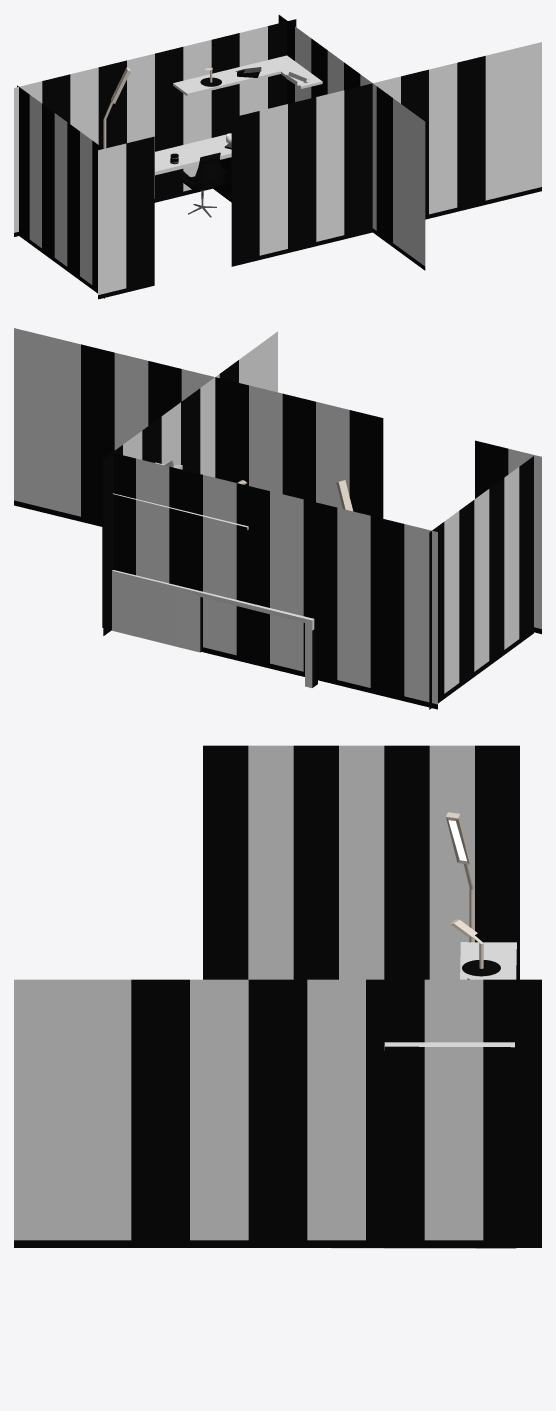
File: blackWhiteOffice.glb
3 views of the same model, one above another, from view 1: azimuth 30°, elevation 25°; view 2: azimuth 150°, elevation 25°; view 3: azimuth 270°, elevation 25° (orthographic). The views are drawn at different scales.
Visible parts, largest first — view 1: BuildingBase.012, BuildingBase.006, BuildingBase.003, BuildingBase.011, BuildingBase.004, desk, chair, LightsOffice, binders; view 2: BuildingBase.006, BuildingBase.012, BuildingBase.003, BuildingBase.011, desk, BuildingBase.004; view 3: BuildingBase.011, BuildingBase.003, desk, LightsOffice, LightsOffice.001.
Boxes of the visible parts, box(x1,y1,x2,y2) form: BuildingBase.012: box(231, 42, 541, 266); BuildingBase.006: box(14, 19, 296, 236); BuildingBase.003: box(17, 85, 104, 298); BuildingBase.011: box(278, 15, 425, 270); BuildingBase.004: box(98, 136, 154, 299); desk: box(154, 55, 322, 202); chair: box(178, 152, 227, 217); LightsOffice: box(103, 67, 130, 148); binders: box(236, 67, 309, 85); BuildingBase.006: box(102, 450, 437, 709); BuildingBase.012: box(14, 328, 383, 526); BuildingBase.003: box(429, 456, 533, 709); BuildingBase.011: box(103, 331, 277, 635); desk: box(112, 462, 317, 687); BuildingBase.004: box(475, 440, 541, 634); BuildingBase.011: box(14, 979, 541, 1247); BuildingBase.003: box(203, 745, 519, 979); desk: box(331, 942, 516, 1248); LightsOffice: box(446, 812, 474, 942); LightsOffice.001: box(450, 919, 500, 976).
Bounding box in the file's own units: 8.52 × 2.98 × 4.87.
Materials: 3 (2 with a texture image).
